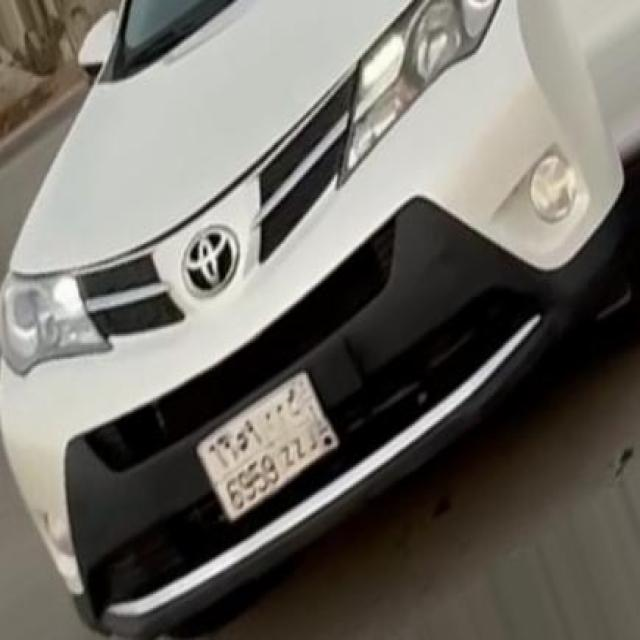Car-plate: (178, 337, 372, 548)
